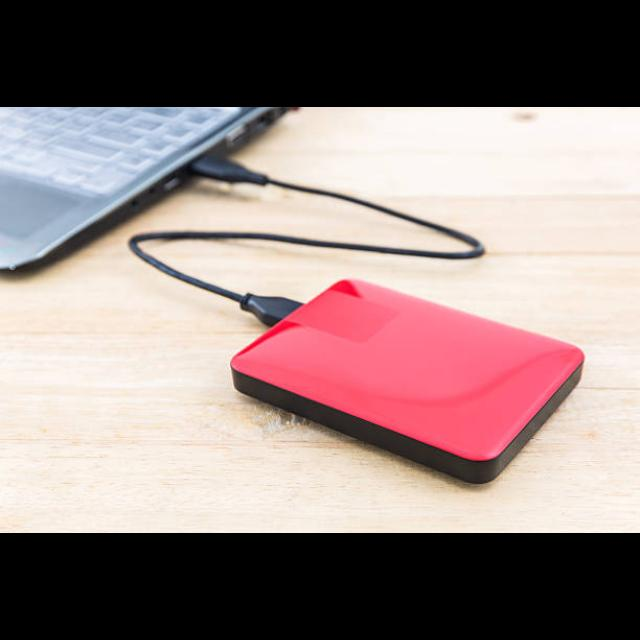HDD: (228, 280, 587, 487)
